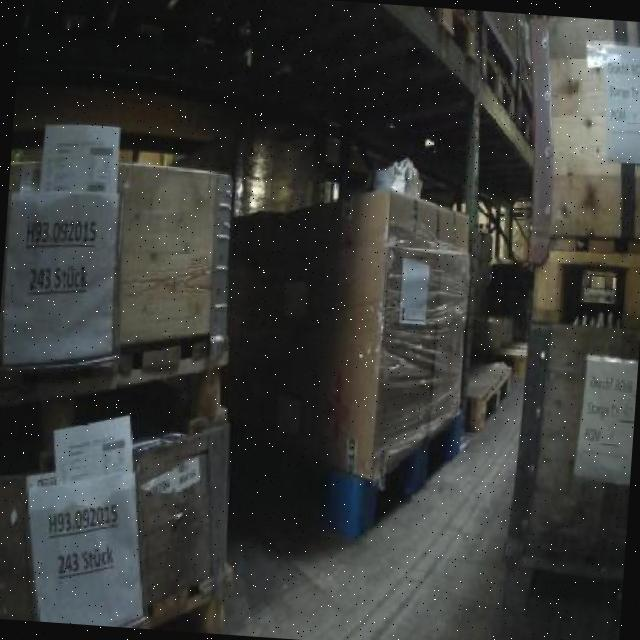pallet: (0, 332, 237, 469), (455, 352, 518, 445), (474, 38, 517, 125)
